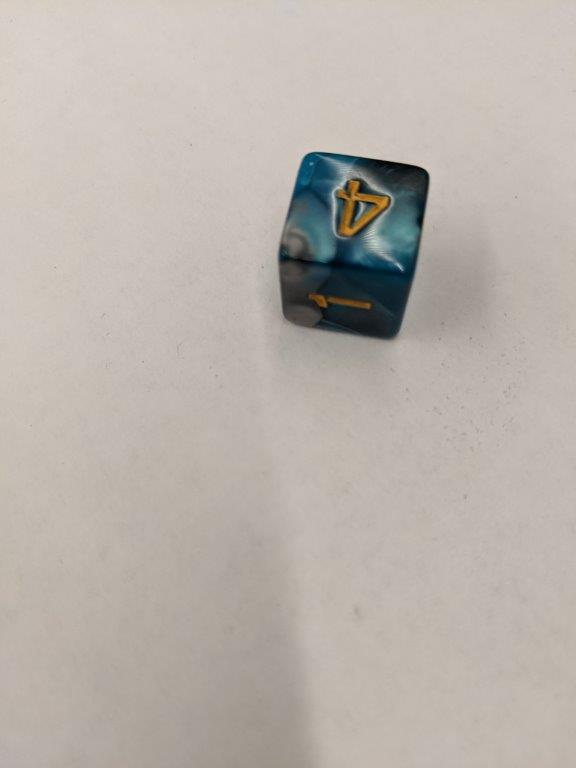d6-4: (272, 149, 433, 339)
